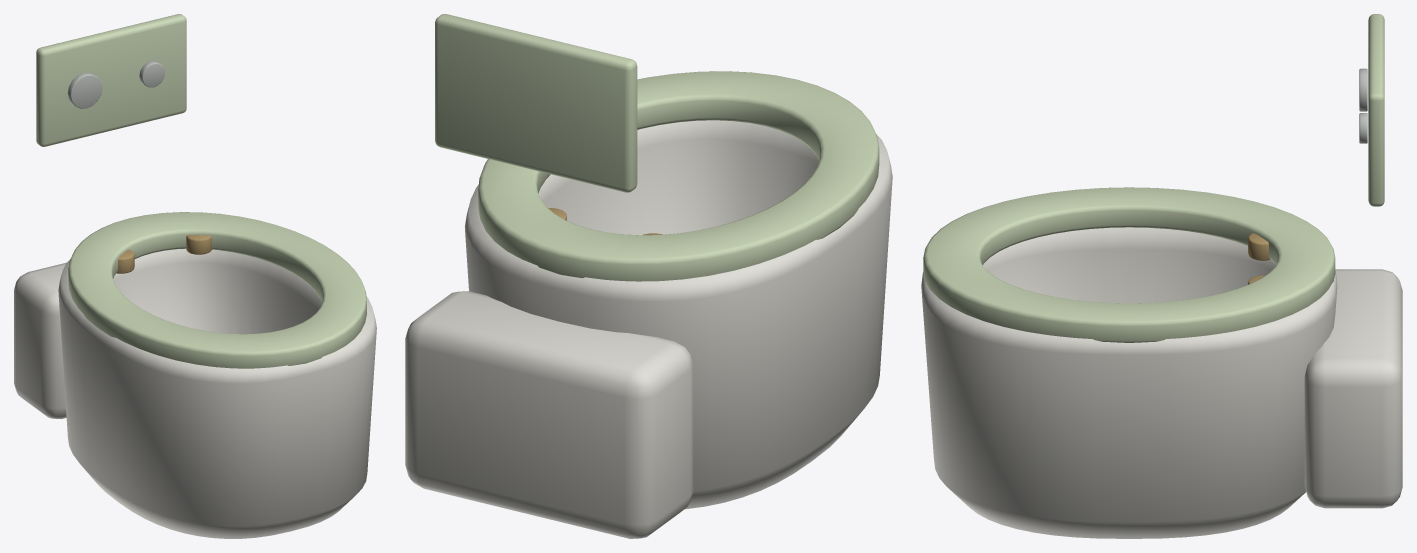
File: wall-hung-toilet.glb
3 renders of one model, left to right at view 1: azimuth 30°, elevation 25°; view 2: azimuth 150°, elevation 25°; view 3: azimuth 270°, elevation 25°, orthographic. The views are drawn at different scales.
Parts seen in each view (by area): view 1: wall-hung-toilet; view 2: wall-hung-toilet; view 3: wall-hung-toilet.
Boxes of the visible parts, x1=… form: wall-hung-toilet: x1=14, y1=14, x2=376, y2=538; wall-hung-toilet: x1=405, y1=14, x2=892, y2=538; wall-hung-toilet: x1=921, y1=14, x2=1402, y2=538.
Size of the model in its own units: 0.38 by 0.55 by 0.56.
